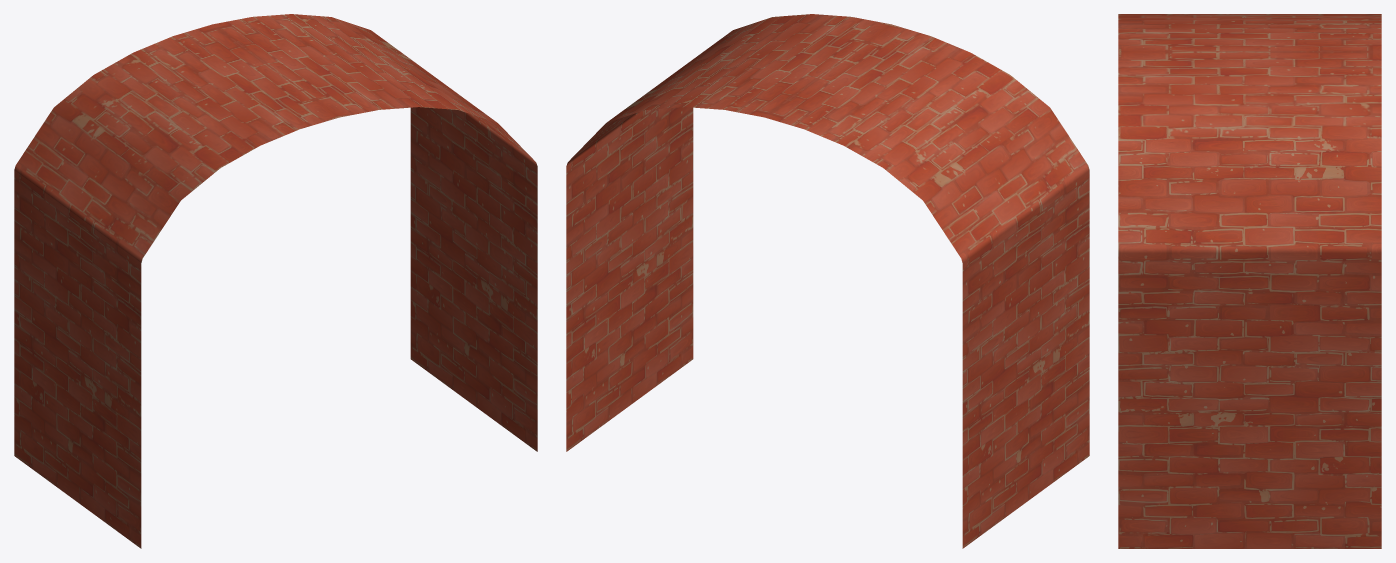
Rendered from Passage_01.fbx.
3 renders of one model, left to right at view 1: azimuth 30°, elevation 25°; view 2: azimuth 150°, elevation 25°; view 3: azimuth 270°, elevation 25°, orthographic. The views are drawn at different scales.
Parts seen in each view (by area): view 1: Passage_01; view 2: Passage_01; view 3: Passage_01.
Part boxes in pixels (box(x1,y1,x2,y2)): Passage_01: box(14, 14, 537, 548); Passage_01: box(566, 14, 1089, 548); Passage_01: box(1118, 14, 1381, 548).
Bounding box in the file's own units: 3.6 × 3.32 × 2.
